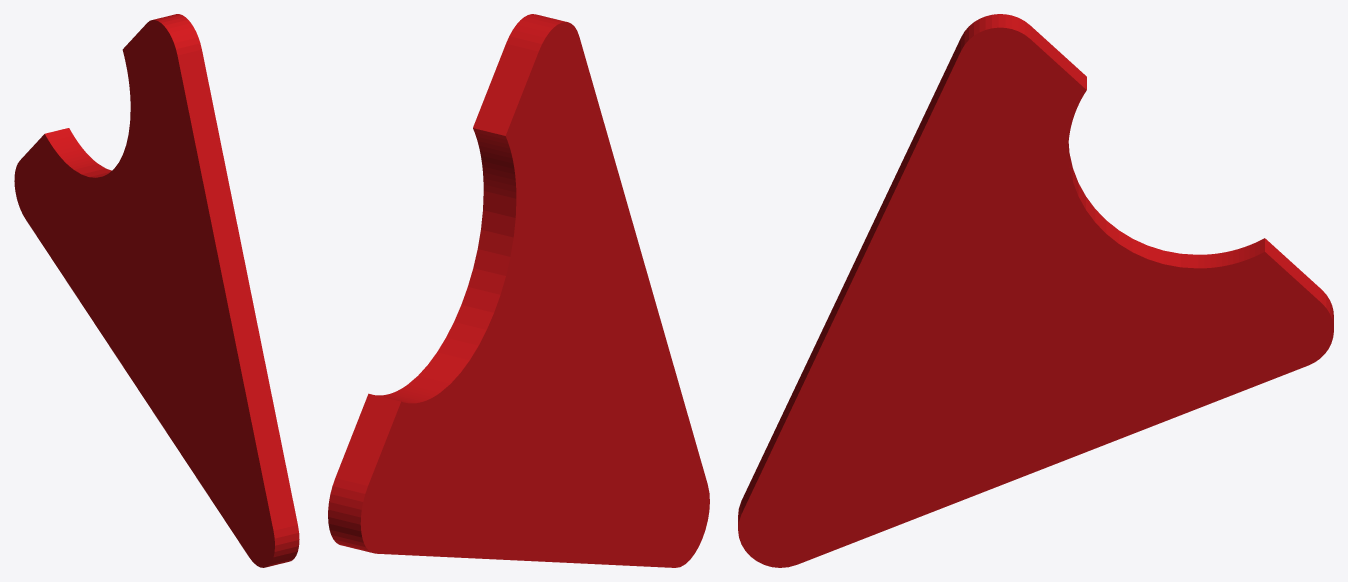
Rendered from marker-user.glb.
3 renders of one model, left to right at view 1: azimuth 30°, elevation 25°; view 2: azimuth 150°, elevation 25°; view 3: azimuth 270°, elevation 25°, orthographic. The views are drawn at different scales.
Parts seen in each view (by area): view 1: Curve; view 2: Curve; view 3: Curve.
Part boxes in pixels (<box>): Curve: <box>14,14,299,567</box>; Curve: <box>328,14,709,567</box>; Curve: <box>738,14,1333,567</box>.
Bounding box in the file's own units: 0.0014 × 0.0258 × 0.0258.
